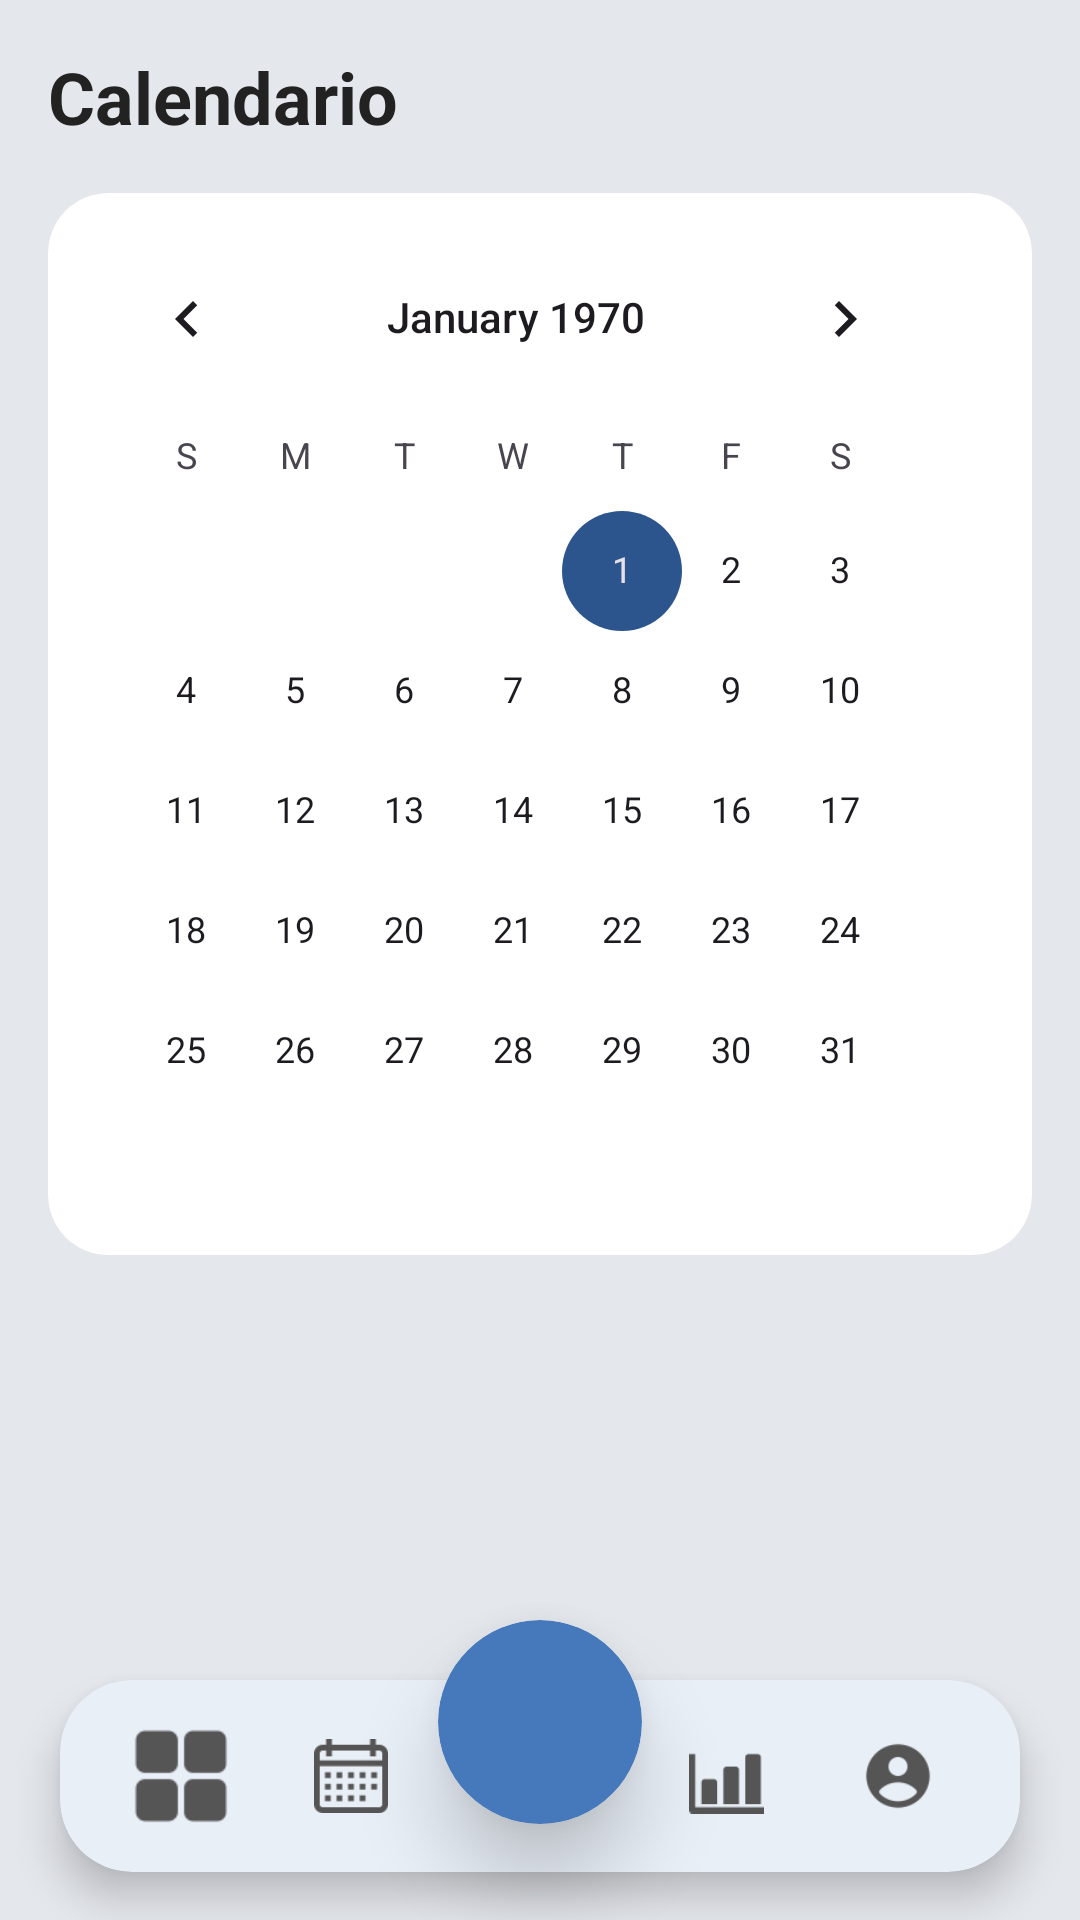

Named icons in this screenshot (1080x1920) and their bounding boxes, (x1, y1, x2, y2):
Calendario: (314, 1739, 388, 1813)
Estadísticas: (689, 1753, 764, 1814)
Inicio: (135, 1730, 227, 1822)
Perfil: (866, 1744, 930, 1808)
